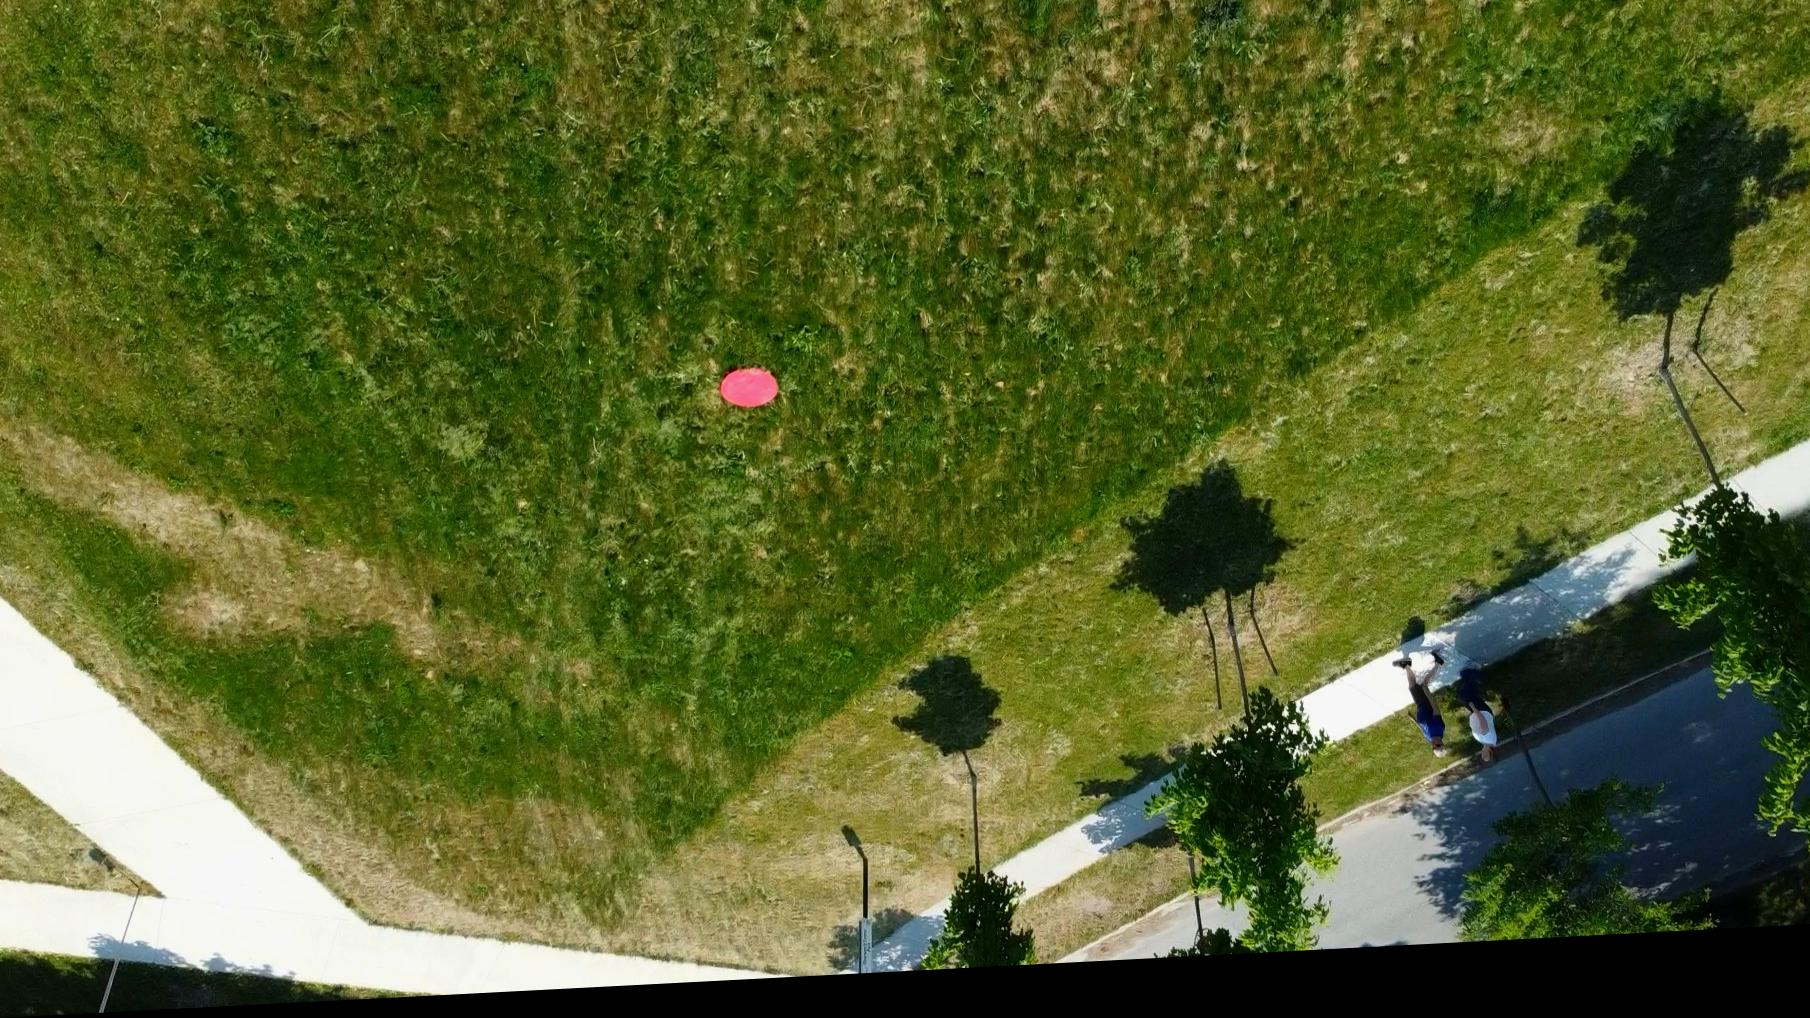Red: (719, 373, 779, 418)
